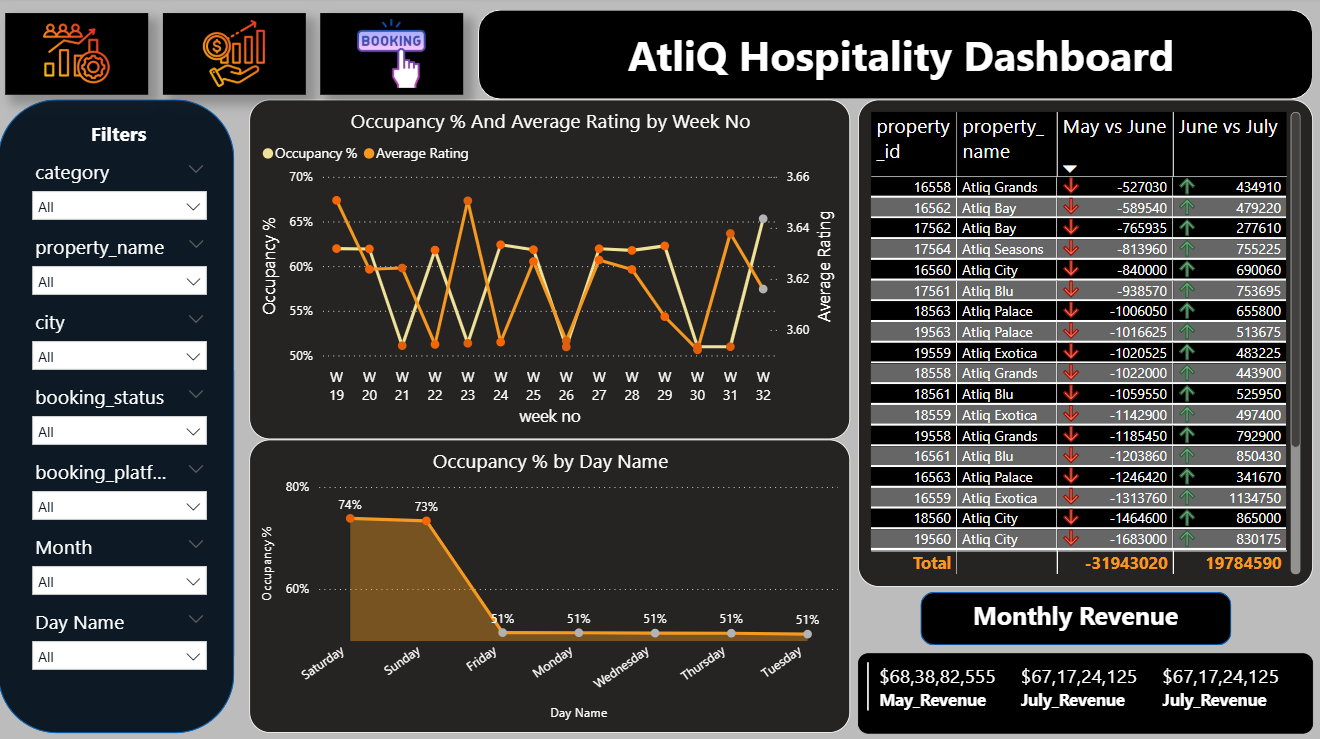

What the dashboard file says about the page in this screenshot:
{"tool":"powerbi","page":{"name":"Performance Overview","canvas":[1280,720],"ordinal":1},"visuals":[{"type":"shape","box":[0,98.9,228,611.7],"z":0},{"type":"slicer","fields":{"Values":["dim_hotels.category"]},"box":[23,150.8,188,70],"z":0,"group":"g1"},{"type":"group","id":"g1","title":"Group 1","box":[22.9,119.4,188.2,535.7],"z":1000},{"type":"slicer","fields":{"Values":["dim_hotels.property_name"]},"box":[22.9,223.2,188.2,70],"z":1000,"group":"g1"},{"type":"slicer","fields":{"Values":["dim_hotels.city"]},"box":[23,295.5,188,70],"z":2000,"group":"g1"},{"type":"tableEx","fields":{"Values":["dim_hotels.property_id","dim_hotels.property_name","key_measures.May vs June Revenue Change","key_measures.June vs July"]},"box":[830,98.9,439.1,470.5],"z":3000},{"type":"textbox","title":"Filters","box":[29.5,119.4,174.9,29],"z":3000,"group":"g1"},{"type":"shape","box":[463.3,12.1,805.9,86.9],"z":4000},{"type":"slicer","fields":{"Values":["fack_bookings.booking_status"]},"box":[23,367.9,188,70],"z":4000,"group":"g1"},{"type":"textbox","title":"AtliQ Hospitality Dashboard","box":[492.2,27.7,758.9,61.5],"z":5000},{"type":"slicer","fields":{"Values":["fack_bookings.booking_platform"]},"box":[23,440.3,188,70],"z":5000,"group":"g1"},{"type":"lineChart","title":"Occupancy % And Average Rating by Week No","fields":{"Category":["dim_date.week no"],"Y2":["key_measures.Average Rating"],"Y":["key_measures.Occupancy %"]},"box":[242.5,98.9,580.3,328.2],"z":6000},{"type":"slicer","fields":{"Values":["dim_date.date.Variation.Date Hierarchy.Month"]},"box":[23,512.7,188,70],"z":6000,"group":"g1"},{"type":"areaChart","fields":{"Category":["dim_date.Day Name"],"Y":["key_measures.Occupancy %"]},"box":[242.5,427.1,580.3,283.5],"z":7000},{"type":"slicer","fields":{"Values":["dim_date.Day Name"]},"box":[23,585.1,188,70],"z":7000,"group":"g1"},{"type":"shape","box":[890.4,574.3,300,51.4],"z":7500,"group":"g2"},{"type":"textbox","title":"Monthly Revenue","box":[907.1,577.1,263.9,41.7],"z":7750,"group":"g2"},{"type":"multiRowCard","fields":{"Values":["key_measures.May Revenue","key_measures.July Revenue","key_measures.July Revenue"]},"box":[830,633.4,439.1,77.2],"z":8000},{"type":"group","id":"g2","title":"Group 2","box":[890.4,574.3,300.4,51.9],"z":9000},{"type":"group","id":"g3","title":"Group 3","box":[7.2,15.7,441.6,78.4],"z":10000},{"type":"image","box":[7.2,15.7,137.5,78.4],"z":11000,"group":"g3"},{"type":"image","box":[159.1,15.7,137.5,78.4],"z":12000,"group":"g3"},{"type":"image","box":[311,15.7,137.5,78.4],"z":13000,"group":"g3"}]}

Visuals, with their boxes in screenshot pixels (x1, y1, x2, y2), scaled from the page's 1280x720 canvas onto the 1320x739 screenshot:
shape: {"left": 0, "top": 102, "right": 235, "bottom": 729}
slicer - dim_hotels.category: {"left": 24, "top": 155, "right": 218, "bottom": 227}
"Group 1" group: {"left": 24, "top": 123, "right": 218, "bottom": 672}
slicer - dim_hotels.property_name: {"left": 24, "top": 229, "right": 218, "bottom": 301}
slicer - dim_hotels.city: {"left": 24, "top": 303, "right": 218, "bottom": 375}
tableEx - dim_hotels.property_id x dim_hotels.property_name: {"left": 856, "top": 102, "right": 1309, "bottom": 584}
"Filters" textbox: {"left": 30, "top": 123, "right": 211, "bottom": 152}
shape: {"left": 478, "top": 12, "right": 1309, "bottom": 102}
slicer - fack_bookings.booking_status: {"left": 24, "top": 378, "right": 218, "bottom": 449}
"AtliQ Hospitality Dashboard" textbox: {"left": 508, "top": 28, "right": 1290, "bottom": 92}
slicer - fack_bookings.booking_platform: {"left": 24, "top": 452, "right": 218, "bottom": 524}
"Occupancy % And Average Rating by Week No" lineChart: {"left": 250, "top": 102, "right": 849, "bottom": 438}
slicer - dim_date.date.Variation.Date Hierarchy.Month: {"left": 24, "top": 526, "right": 218, "bottom": 598}
areaChart - dim_date.Day Name x key_measures.Occupancy %: {"left": 250, "top": 438, "right": 849, "bottom": 729}
slicer - dim_date.Day Name: {"left": 24, "top": 601, "right": 218, "bottom": 672}
shape: {"left": 918, "top": 589, "right": 1228, "bottom": 642}
"Monthly Revenue" textbox: {"left": 935, "top": 592, "right": 1208, "bottom": 635}
multiRowCard - key_measures.May Revenue x key_measures.July Revenue: {"left": 856, "top": 650, "right": 1309, "bottom": 729}
"Group 2" group: {"left": 918, "top": 589, "right": 1228, "bottom": 643}
"Group 3" group: {"left": 7, "top": 16, "right": 463, "bottom": 97}
image: {"left": 7, "top": 16, "right": 149, "bottom": 97}
image: {"left": 164, "top": 16, "right": 306, "bottom": 97}
image: {"left": 321, "top": 16, "right": 463, "bottom": 97}
